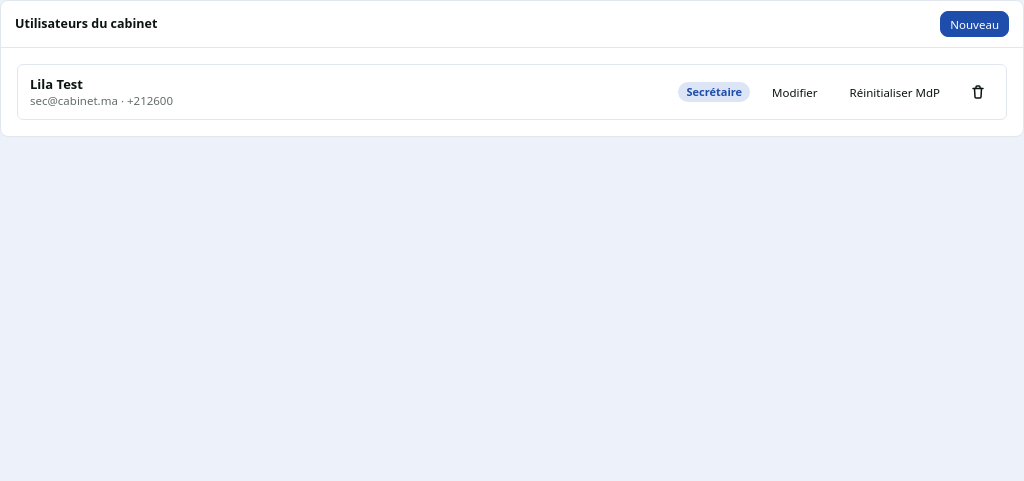
Test case: UtilisateursTab — assignations practitioners (V032) › 5. edit existant → pré-rempli depuis GET /admin/users/{id}
The width and height of the screenshot is (1024, 481).
Expected: the text "Lila Test" is shown, [30,75,83,93]
Click the button with aria-label "Modifier Lila Test".
click(795, 92)  # box [762,79,828,105]
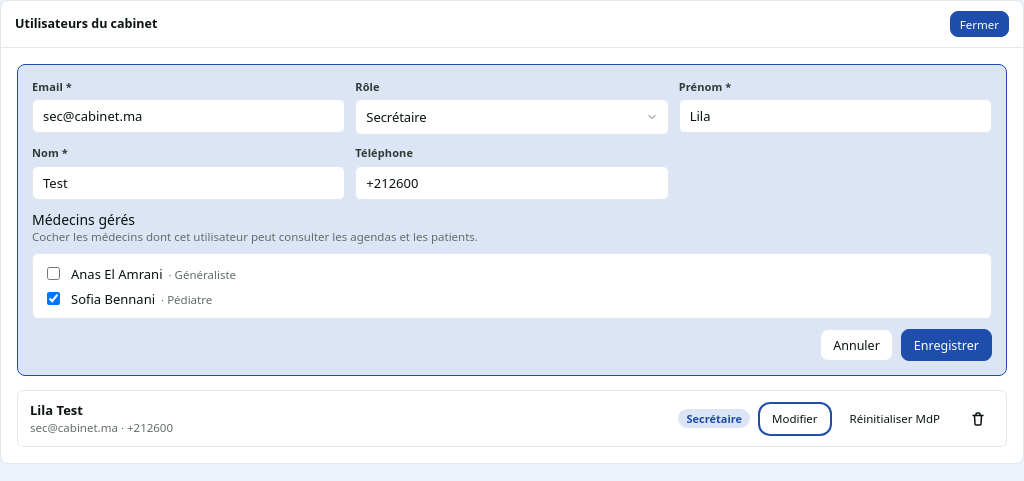
Expected: the element with test id "user-assignment-section" is shown, [32,210,992,320]
Expected: the checkbox labelled "Sofia Bennani" is checked, [47,292,60,306]
Expected: the checkbox labelled "Anas El Amrani" is not checked, [47,268,60,280]
